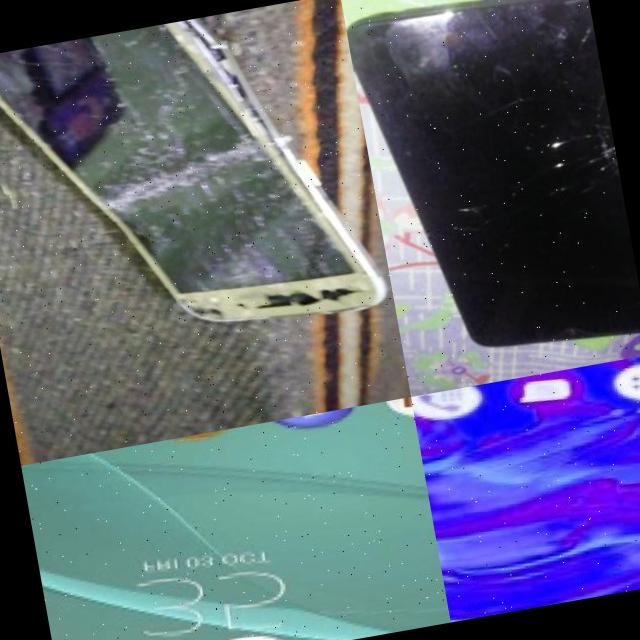screen crack: (0, 0, 394, 369), (412, 64, 629, 264)
